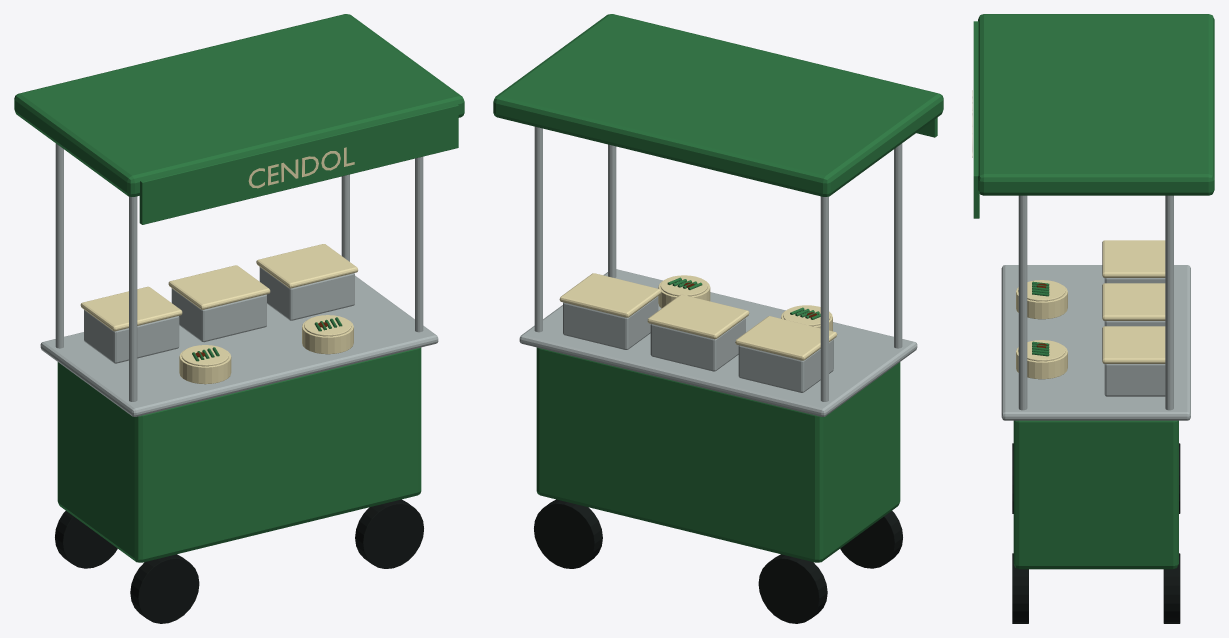
3 views of the same model, side by side, from view 1: azimuth 30°, elevation 25°; view 2: azimuth 150°, elevation 25°; view 3: azimuth 270°, elevation 25° (orthographic).
Visible parts, largest first — view 1: CART_Cabinet, CANOPY_Roof, COUNTER_Surface, SIGN_Front, WHEEL_Rubber, WHEEL_Rubber.002, BIN_Ingredient.002, BIN_Ingredient, BIN_Ingredient.001, LID_Ingredient.001, LID_Ingredient.002, LID_Ingredient (+10 smaller); view 2: CART_Cabinet, CANOPY_Roof, COUNTER_Surface, WHEEL_Rubber.001, WHEEL_Rubber.003, BIN_Ingredient.002, BIN_Ingredient, BIN_Ingredient.001, LID_Ingredient.001, LID_Ingredient.002, LID_Ingredient, WHEEL_Rubber (+5 smaller); view 3: CANOPY_Roof, CART_Cabinet, COUNTER_Surface, LID_Ingredient, LID_Ingredient.001, LID_Ingredient.002, CANOPY_Post.003, BIN_Ingredient, CANOPY_Post, SIGN_Front, WHEEL_Rubber.003, WHEEL_Rubber.002 (+6 smaller).
Part boxes in pixels (x1,y1,x2,y2): CART_Cabinet: [57, 347, 421, 562]; CANOPY_Roof: [14, 14, 464, 196]; COUNTER_Surface: [40, 275, 438, 416]; SIGN_Front: [139, 103, 458, 224]; WHEEL_Rubber: [130, 554, 199, 623]; WHEEL_Rubber.002: [355, 499, 423, 568]; BIN_Ingredient.002: [171, 288, 266, 342]; BIN_Ingredient: [259, 267, 354, 320]; BIN_Ingredient.001: [84, 310, 179, 363]; LID_Ingredient.001: [168, 265, 270, 309]; LID_Ingredient.002: [256, 244, 358, 288]; LID_Ingredient: [80, 286, 182, 331]; CART_Cabinet: [536, 347, 900, 562]; CANOPY_Roof: [493, 14, 943, 196]; COUNTER_Surface: [519, 269, 917, 416]; WHEEL_Rubber.001: [758, 554, 827, 623]; WHEEL_Rubber.003: [534, 499, 602, 568]; BIN_Ingredient.002: [650, 318, 745, 371]; BIN_Ingredient: [563, 296, 658, 349]; BIN_Ingredient.001: [738, 339, 833, 392]; LID_Ingredient.001: [647, 294, 749, 339]; LID_Ingredient.002: [559, 273, 661, 317]; LID_Ingredient: [735, 316, 837, 360]; WHEEL_Rubber: [840, 511, 902, 568]; CANOPY_Roof: [978, 14, 1214, 195]; CART_Cabinet: [1013, 420, 1178, 569]; COUNTER_Surface: [1001, 265, 1190, 420]; LID_Ingredient: [1102, 240, 1165, 277]; LID_Ingredient.001: [1102, 283, 1165, 320]; LID_Ingredient.002: [1102, 326, 1165, 363]; CANOPY_Post.003: [1018, 195, 1027, 410]; BIN_Ingredient: [1104, 364, 1165, 396]; CANOPY_Post: [1165, 195, 1173, 410]; SIGN_Front: [973, 21, 979, 218]; WHEEL_Rubber.003: [1163, 553, 1180, 623]; WHEEL_Rubber.002: [1012, 553, 1028, 623].
Size of the model in its own units: 1.65 by 2.2 by 1.02.
